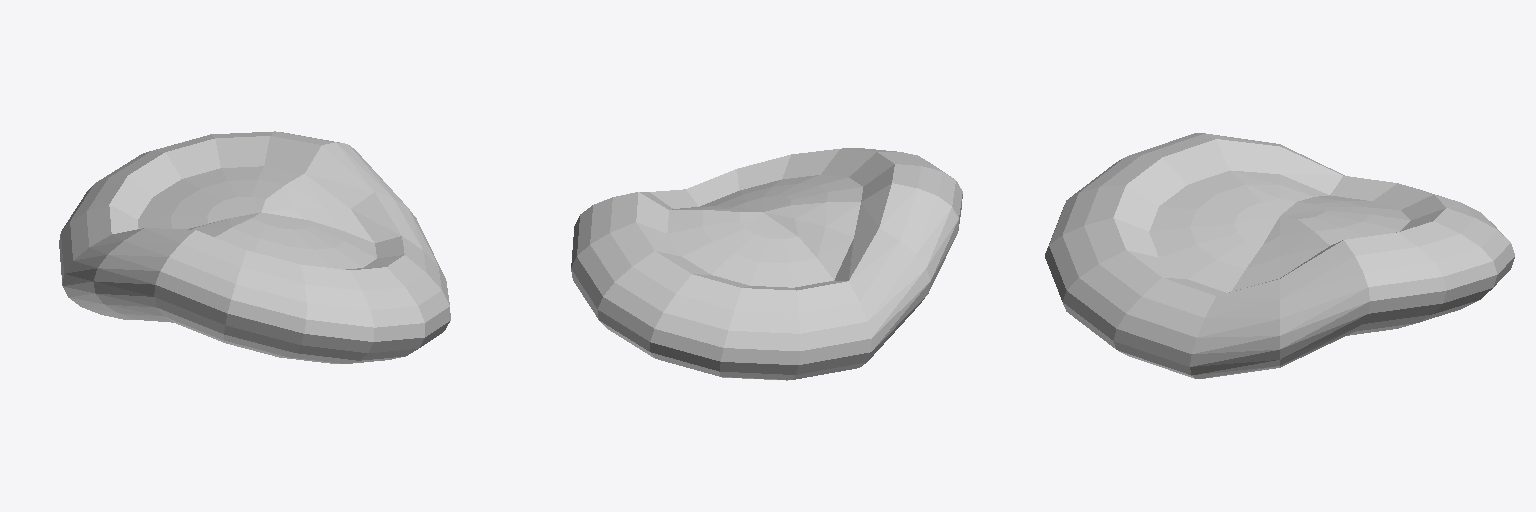
File: Cell2.obj
3 renders of one model, left to right at view 1: azimuth 30°, elevation 25°; view 2: azimuth 150°, elevation 25°; view 3: azimuth 270°, elevation 25°, orthographic.
Parts seen in each view (by area): view 1: Sphere; view 2: Sphere; view 3: Sphere.
Boxes of the visible parts, <box> form: Sphere: <box>59,131,450,363</box>; Sphere: <box>571,148,962,380</box>; Sphere: <box>1045,133,1514,378</box>.
Bounding box in the file's own units: 1.59 × 0.675 × 2.